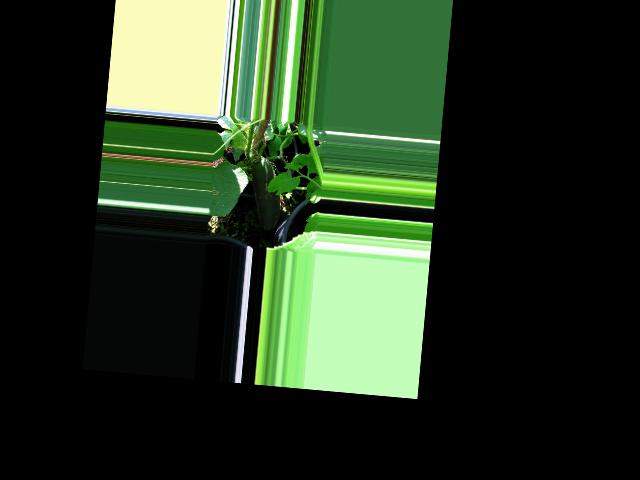cucumber: (245, 155, 284, 231)
